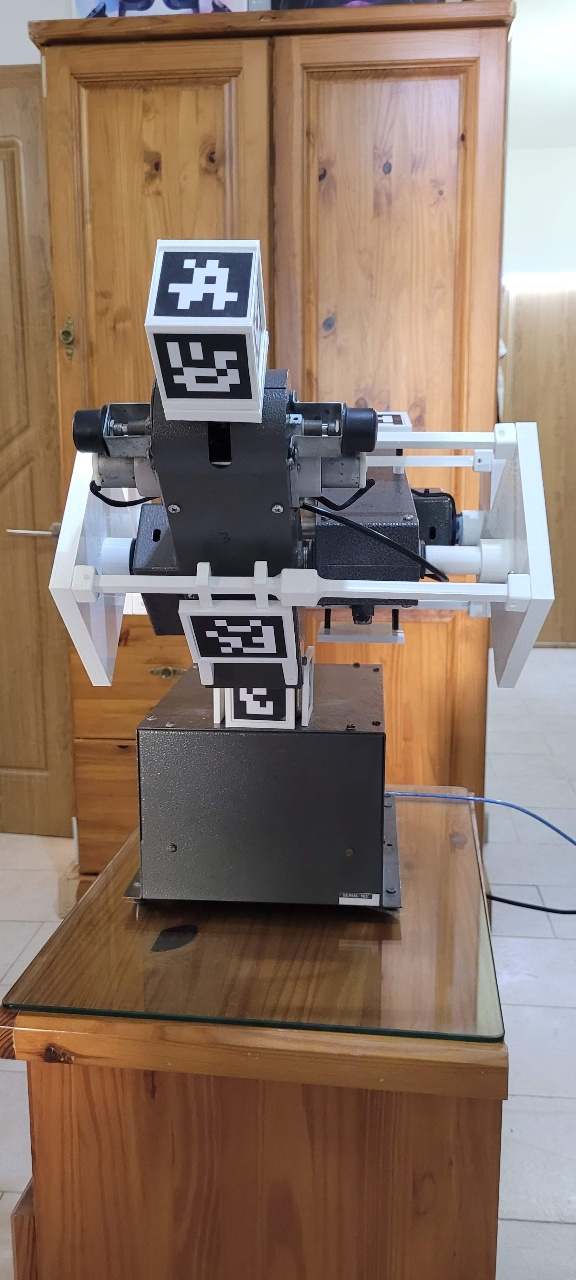Robot: (23, 248, 519, 1000)
